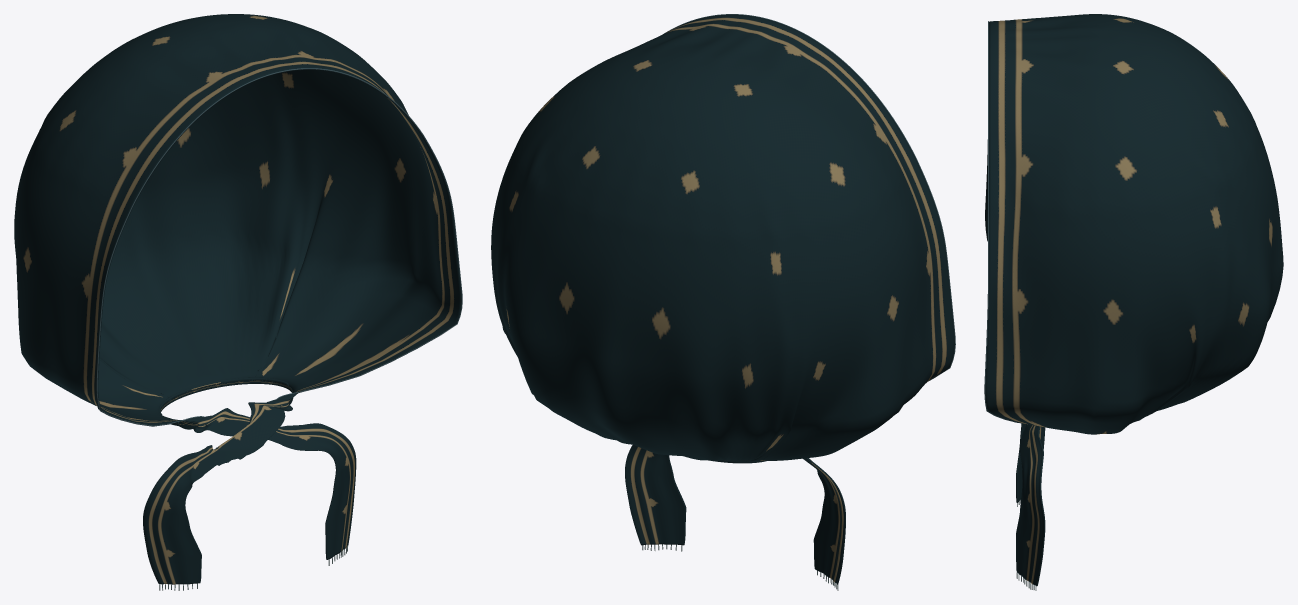
The model's file is Masculine-tshirt-pashmina245-headgear.glb.
3 views of the same model, side by side, from view 1: azimuth 30°, elevation 25°; view 2: azimuth 150°, elevation 25°; view 3: azimuth 270°, elevation 25° (orthographic). The views are drawn at different scales.
Parts seen in each view (by area): view 1: 226 headgear / Headwear / continuous woven pashmina239, 226 headgear / Headwear / face edge239; view 2: 226 headgear / Headwear / continuous woven pashmina239, 226 headgear / Headwear / face edge239; view 3: 226 headgear / Headwear / continuous woven pashmina239, 226 headgear / Headwear / face edge239.
Boxes of the visible parts, <box> form: 226 headgear / Headwear / continuous woven pashmina239: <box>14,14,461,584</box>; 226 headgear / Headwear / face edge239: <box>96,68,462,426</box>; 226 headgear / Headwear / continuous woven pashmina239: <box>491,14,954,584</box>; 226 headgear / Headwear / face edge239: <box>664,14,955,381</box>; 226 headgear / Headwear / continuous woven pashmina239: <box>985,14,1283,586</box>; 226 headgear / Headwear / face edge239: <box>984,21,1020,423</box>.
Bounding box in the file's own units: 1.03 × 1.35 × 0.7127.
Materials: 3 (1 with a texture image).
